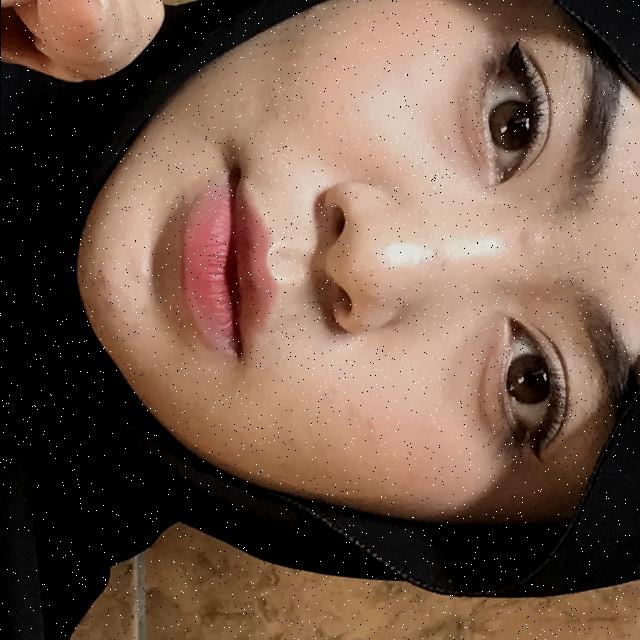kamu: (0, 0, 234, 365)
